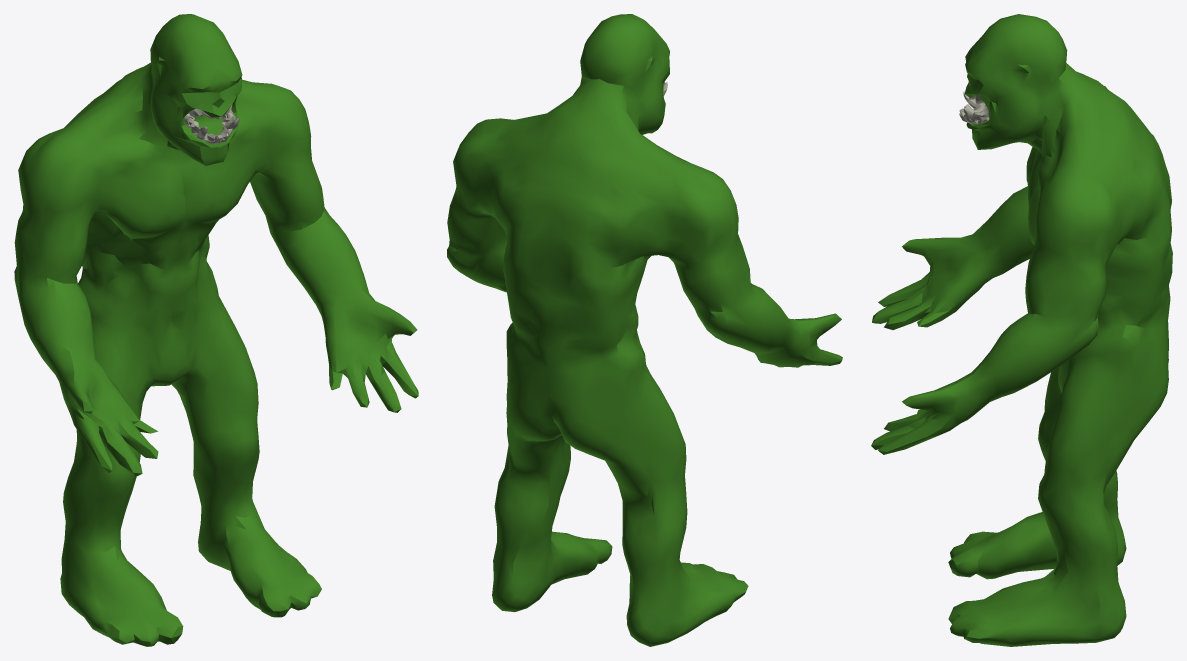
The model's file is orc3.fbx.
3 renders of one model, left to right at view 1: azimuth 30°, elevation 25°; view 2: azimuth 150°, elevation 25°; view 3: azimuth 270°, elevation 25°, orthographic.
Parts seen in each view (by area): view 1: ork1_LP2_2, orc:CL_PM3D_Ring3D; view 2: ork1_LP2_2; view 3: ork1_LP2_2, orc:CL_PM3D_Ring3D.
Part boxes in pixels (x1,y1,x2,y2): ork1_LP2_2: (14,14,418,646); orc:CL_PM3D_Ring3D: (184,104,239,143); ork1_LP2_2: (447,14,842,646); ork1_LP2_2: (871,14,1172,646); orc:CL_PM3D_Ring3D: (959,91,989,124).
Bounding box in the file's own units: 14.97 × 25.43 × 11.84.
